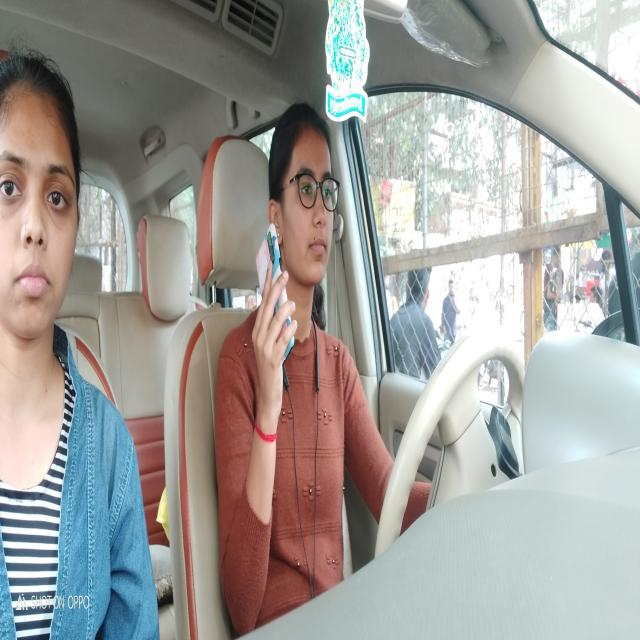mobile: (255, 226, 297, 364)
person: (2, 50, 86, 379), (268, 100, 340, 321)
